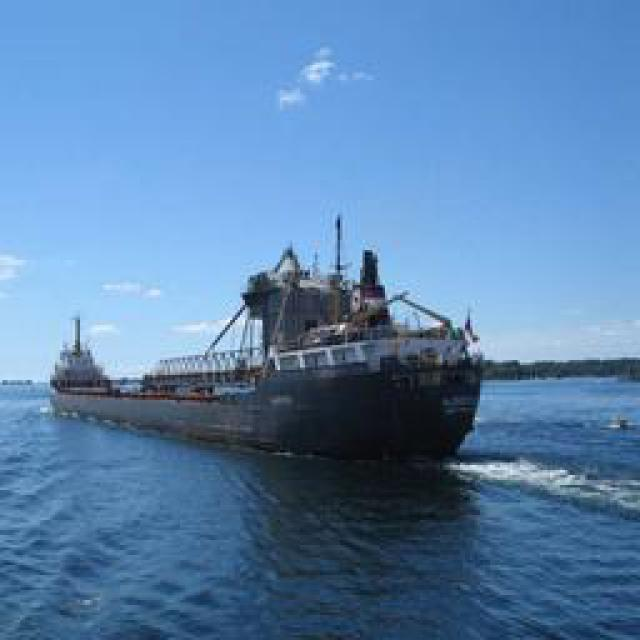Ship: (59, 210, 484, 458)
